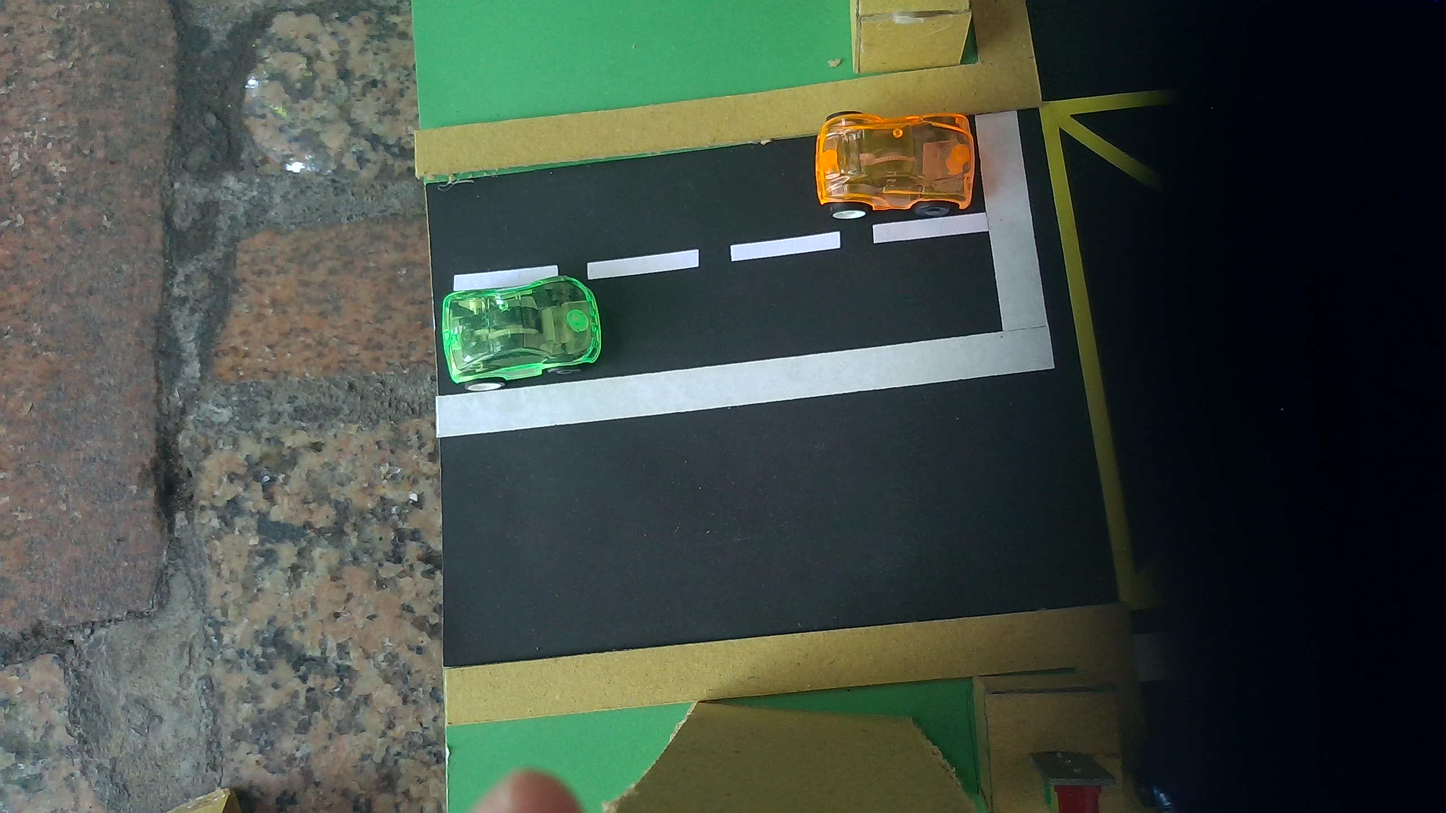Mobil hijau: (442, 276, 602, 390)
Mobil orange: (815, 111, 977, 218)
